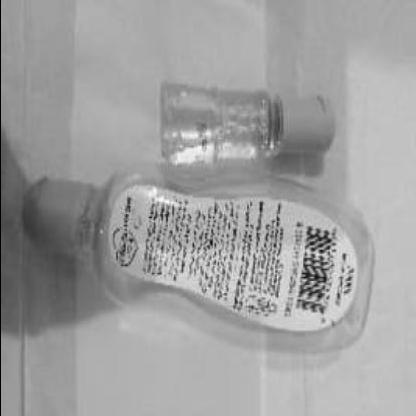objects: (22, 163, 376, 365), (165, 88, 331, 170)
